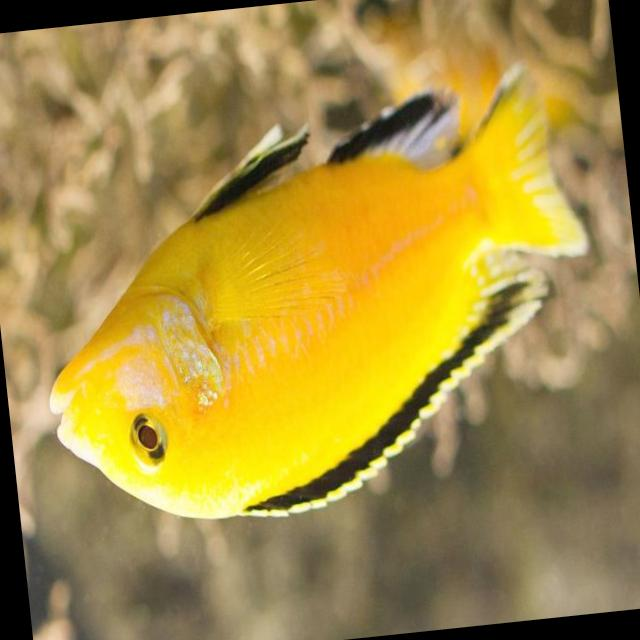YellowCichlid: (19, 54, 612, 536)
